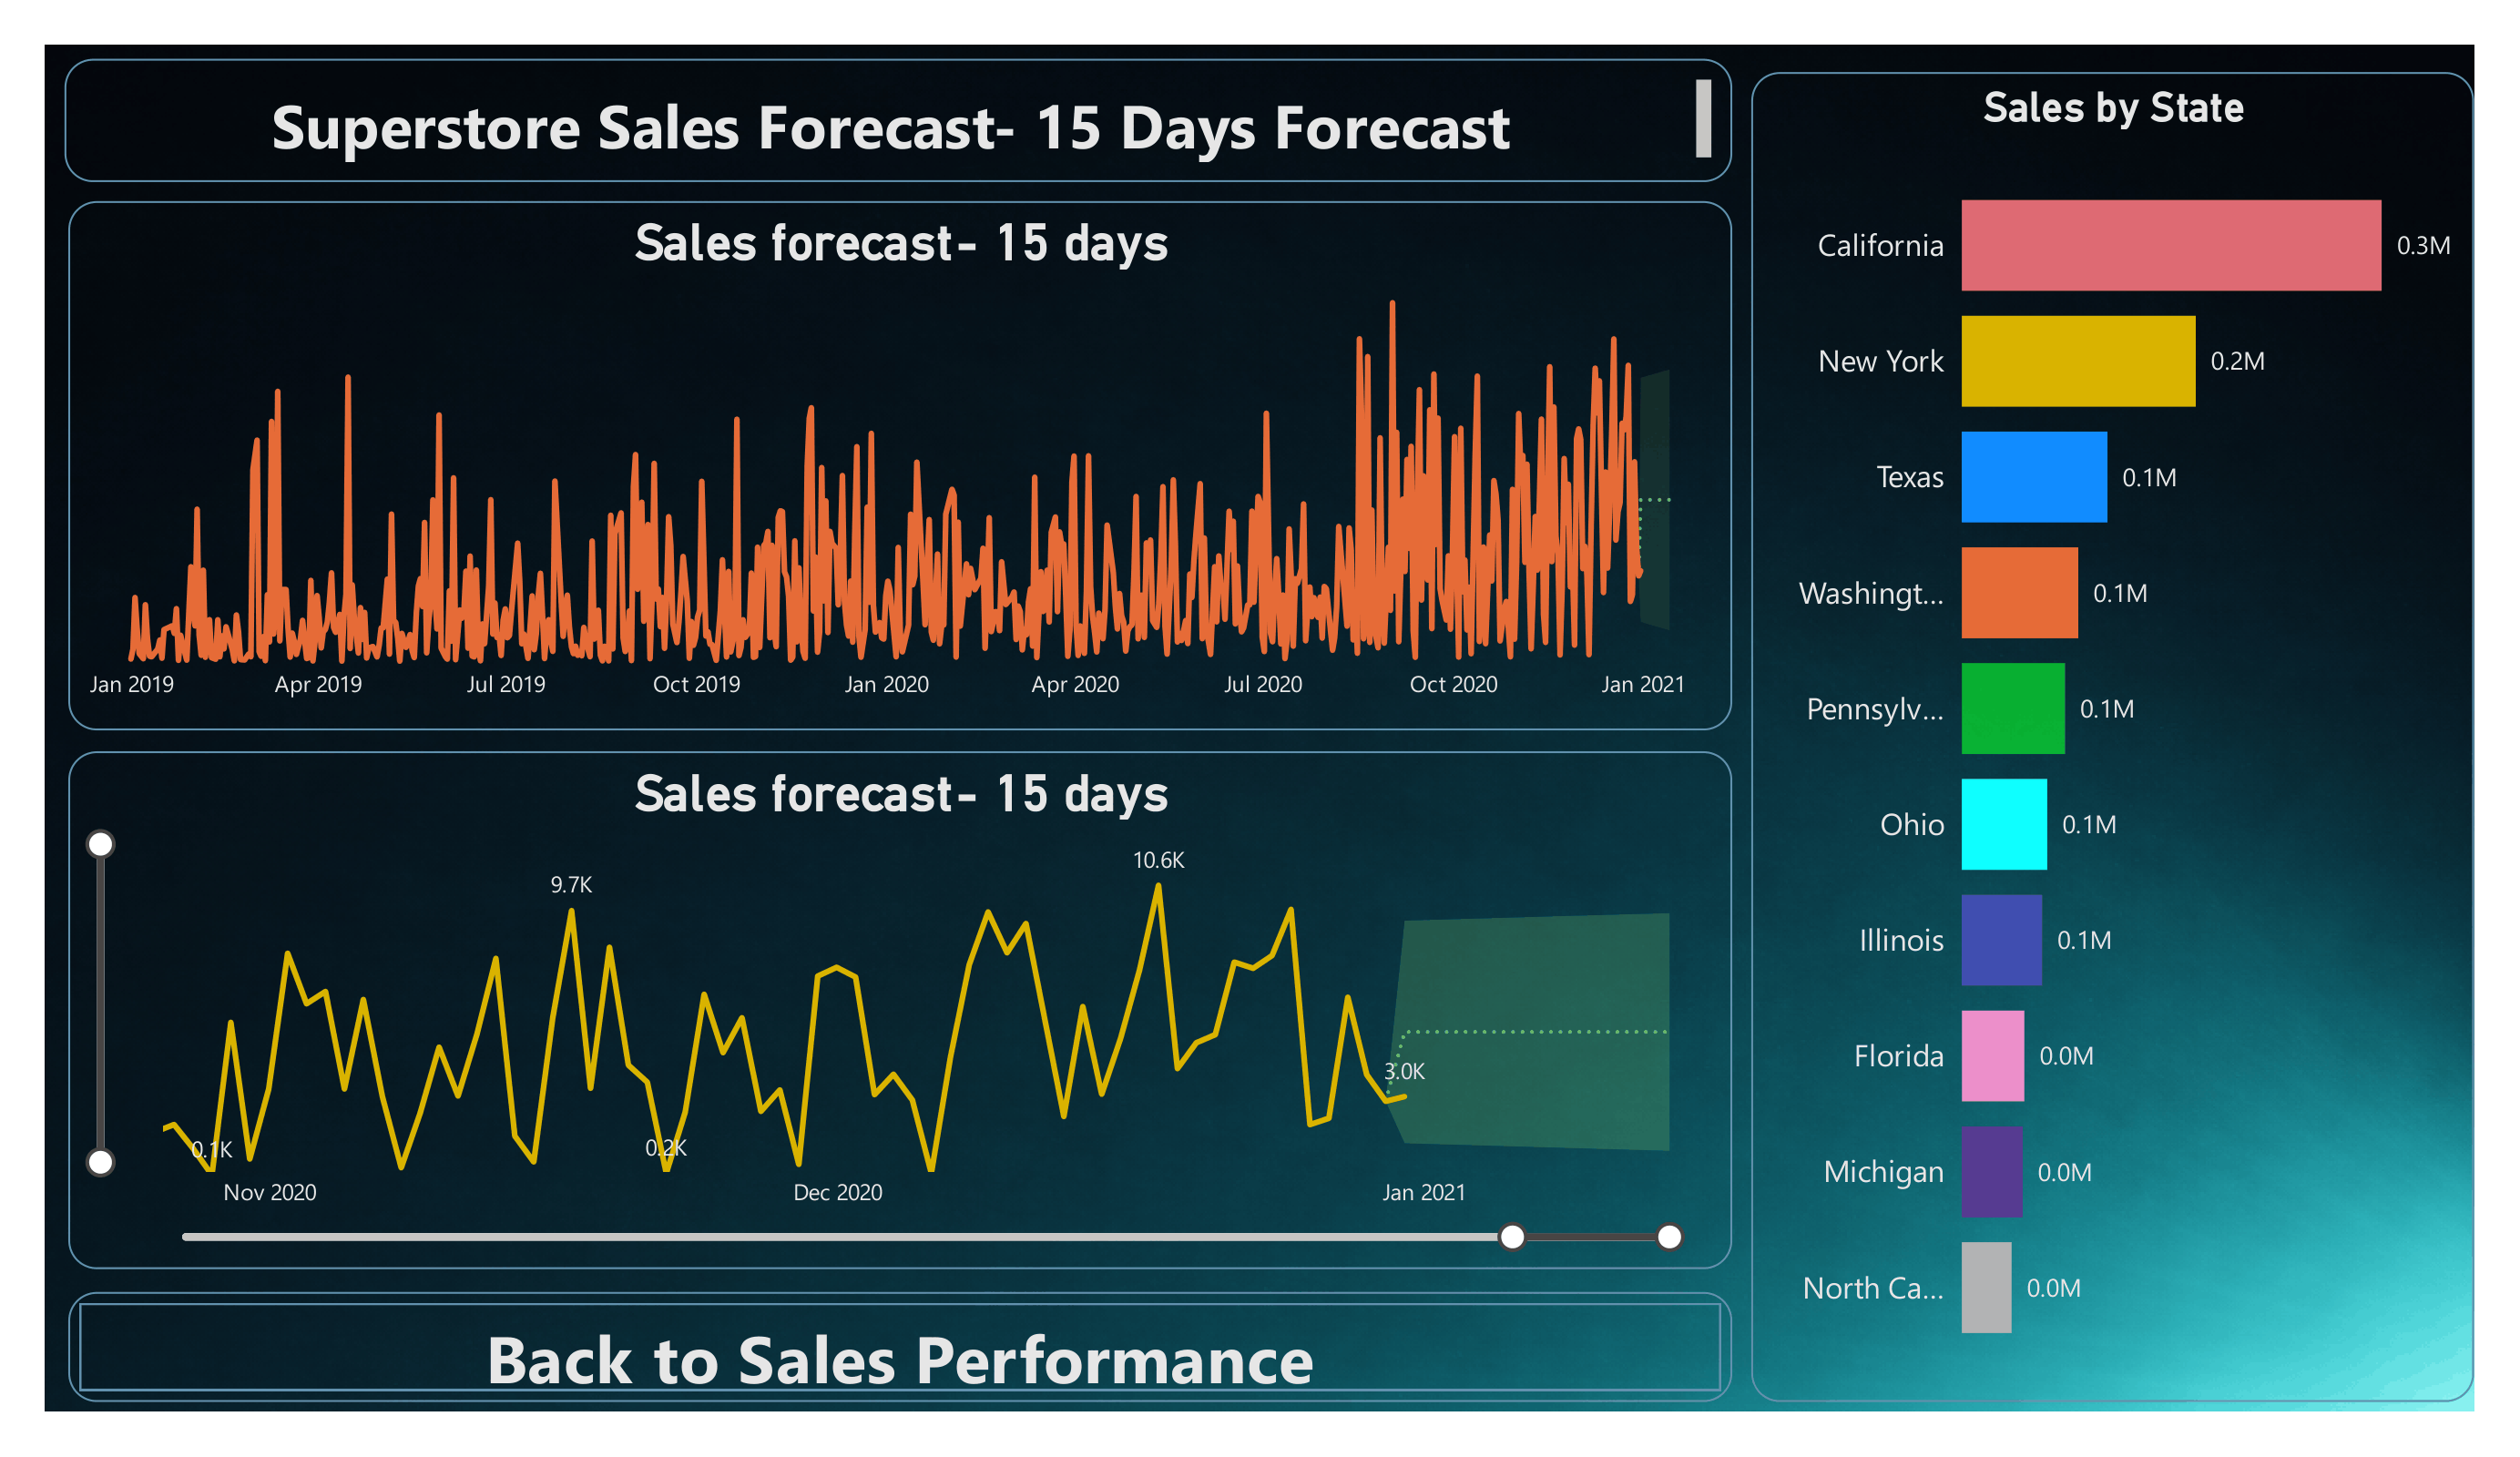

The page's visual inventory and layout, read from the dashboard file:
{"tool":"powerbi","page":{"name":"Sales Forecast & Future  Insights","canvas":[1280,720],"ordinal":1},"visuals":[{"type":"lineChart","title":"Sales forecast- 15 days","fields":{"Y":["Sum(SuperStore_Sales_Dataset.Sales)"],"Category":["SuperStore_Sales_Dataset.Order Date"]},"box":[11.5,82.2,877.2,278.5],"z":0},{"type":"lineChart","title":"Sales forecast- 15 days","fields":{"Y":["Sum(SuperStore_Sales_Dataset.Sales)"],"Category":["SuperStore_Sales_Dataset.Order Date"]},"box":[11.5,372,877.2,272.7],"z":1000},{"type":"textbox","box":[10.1,7.2,878.6,64.9],"z":2000},{"type":"clusteredBarChart","title":" Sales by State","fields":{"Y":["Sum(SuperStore_Sales_Dataset.Sales)"],"Category":["SuperStore_Sales_Dataset.State"]},"box":[898.8,14.5,381.2,700.9],"z":3000},{"type":"actionButton","box":[11.5,657,877.2,57.7],"z":4000}]}

Visuals, with their boxes on the page's 1280x720 design canvas (x1, y1, x2, y2). These are canvas units, not pixel positions in the 2520x1457 screenshot, which may show the page scaled, cropped or inside an application window:
"Sales forecast- 15 days" lineChart: {"x1": 12, "y1": 82, "x2": 889, "y2": 361}
"Sales forecast- 15 days" lineChart: {"x1": 12, "y1": 372, "x2": 889, "y2": 645}
textbox: {"x1": 10, "y1": 7, "x2": 889, "y2": 72}
" Sales by State" clusteredBarChart: {"x1": 899, "y1": 14, "x2": 1280, "y2": 715}
actionButton: {"x1": 12, "y1": 657, "x2": 889, "y2": 715}
